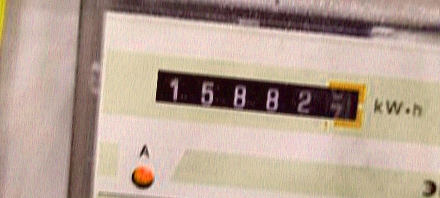1: (167, 76, 184, 103)
2: (297, 88, 314, 114)
5: (199, 79, 218, 106)
7: (329, 100, 345, 120)
8: (232, 83, 250, 111), (265, 86, 282, 112)
screen: (140, 53, 378, 141)
